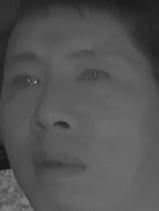eye: (74, 63, 115, 87), (8, 69, 41, 91)
mouth: (29, 144, 87, 184)
